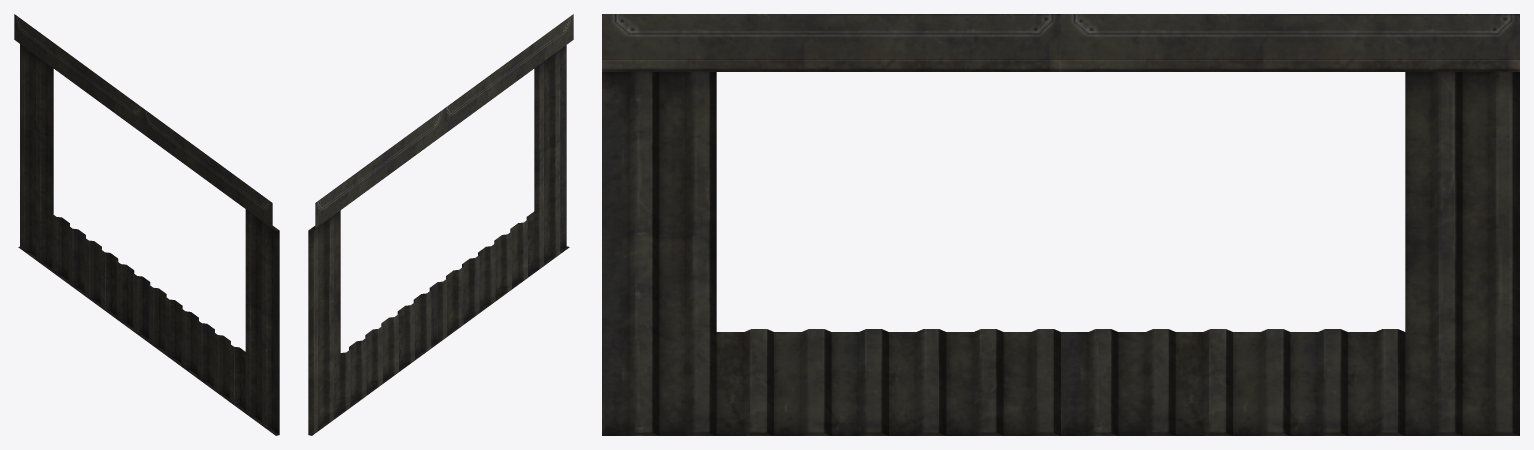
Rendered from pplant_bulkhead_window_large.dae.
3 views of the same model, side by side, from view 1: azimuth 30°, elevation 25°; view 2: azimuth 150°, elevation 25°; view 3: azimuth 270°, elevation 25° (orthographic). The views are drawn at different scales.
Parts seen in each view (by area): view 1: bulkhead_window_large; view 2: bulkhead_window_large; view 3: bulkhead_window_large.
Part boxes in pixels (x1,y1,x2,y2): bulkhead_window_large: (14,14,279,435); bulkhead_window_large: (308,14,573,435); bulkhead_window_large: (602,14,1519,435).
Size of the model in its own units: 0.125 by 4 by 8.
